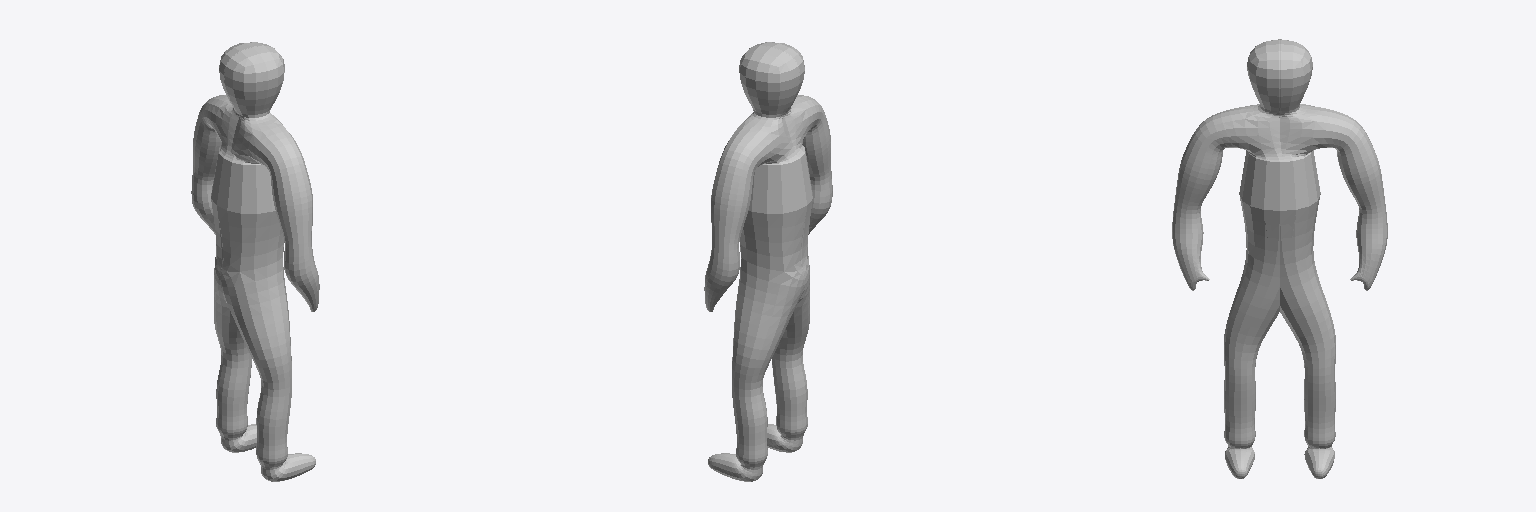
File: Personnage1.obj
The picture shows the model from 3 angles: view 1: azimuth 30°, elevation 25°; view 2: azimuth 150°, elevation 25°; view 3: azimuth 270°, elevation 25°; orthographic projection.
Visible parts, largest first — view 1: Plan; view 2: Plan; view 3: Plan.
Boxes of the visible parts, x1,y1,x2,y2 form: Plan: [191, 42, 319, 481]; Plan: [704, 42, 832, 481]; Plan: [1172, 39, 1387, 478].
Bounding box in the file's own units: 1.19 × 6.07 × 2.83.